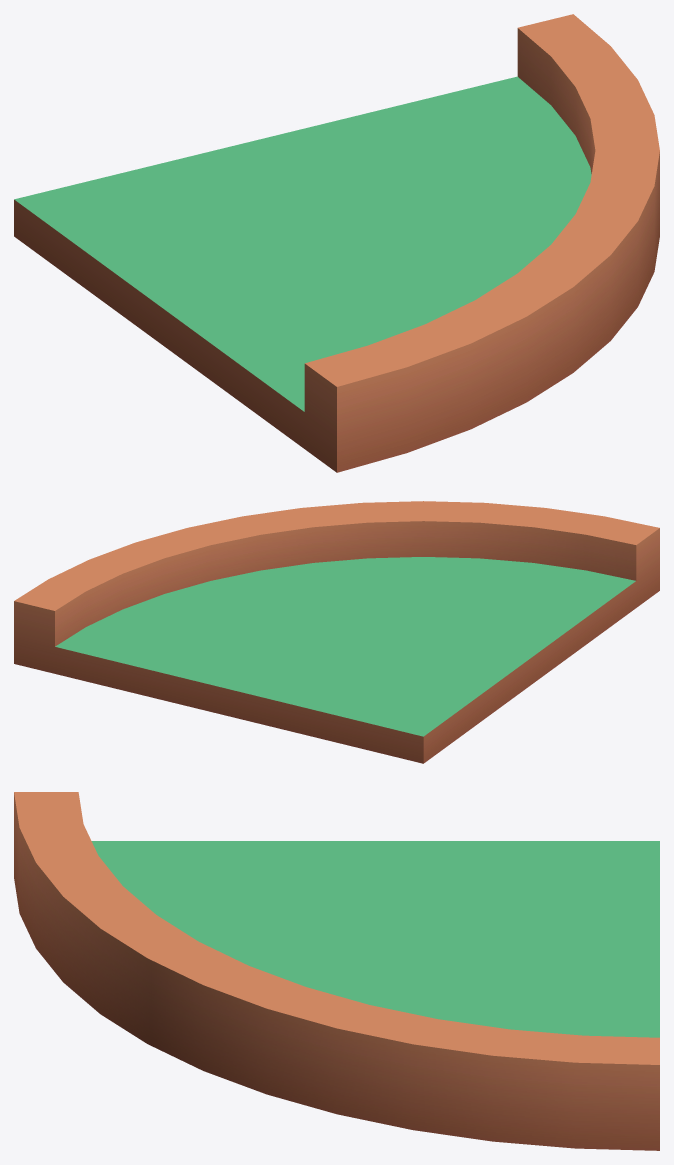
File: round-corner-c.glb
The picture shows the model from 3 angles, top to bottom: view 1: azimuth 30°, elevation 25°; view 2: azimuth 150°, elevation 25°; view 3: azimuth 270°, elevation 25°; orthographic projection. The views are drawn at different scales.
Parts seen in each view (by area): view 1: round-corner-c; view 2: round-corner-c; view 3: round-corner-c.
Boxes of the visible parts, x1=… form: round-corner-c: x1=14, y1=14, x2=659, y2=472; round-corner-c: x1=14, y1=501, x2=659, y2=763; round-corner-c: x1=14, y1=792, x2=659, y2=1150.
Bounding box in the file's own units: 0.9999 × 0.1466 × 0.9999.
1 material, 1 textured.
